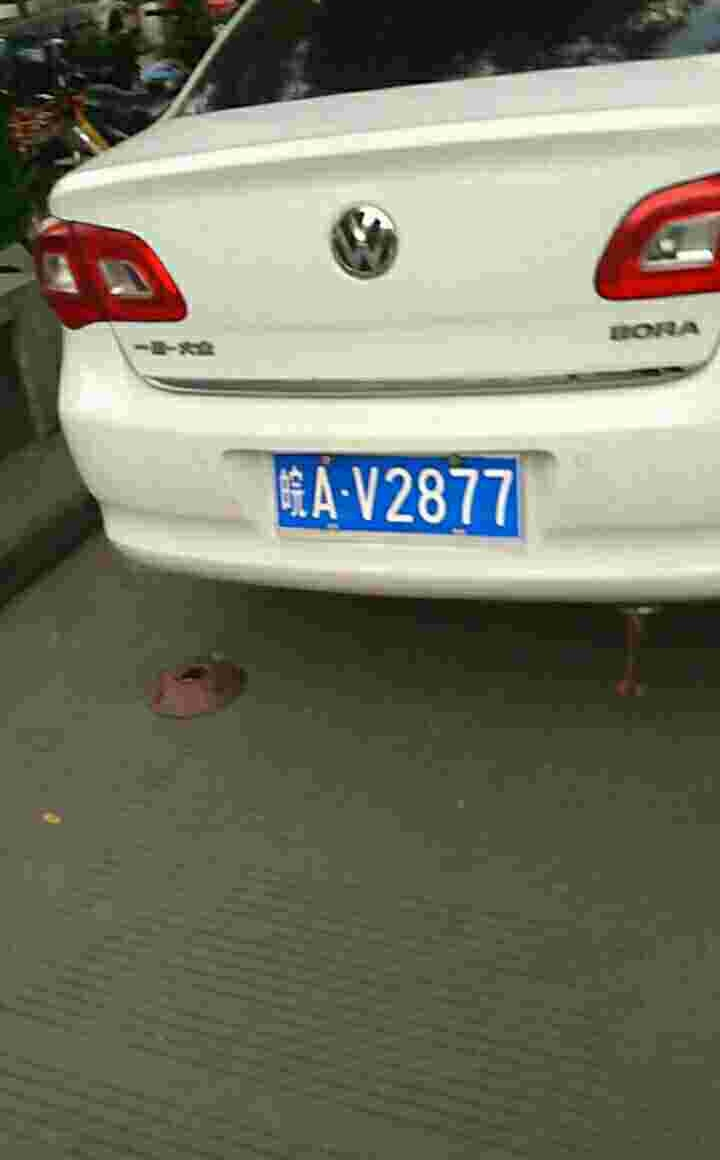car: (256, 441, 532, 539)
